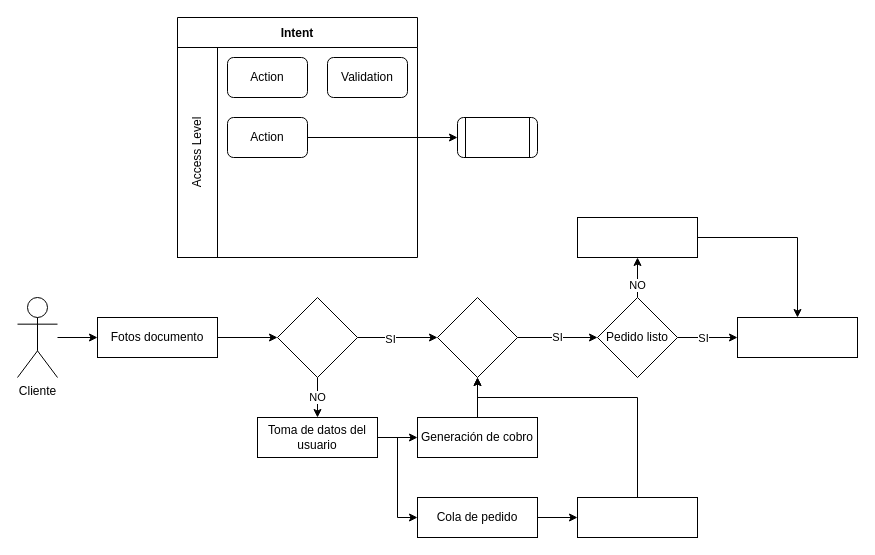
Some shapes in this 875 by 555 pixel diagram are drawn without their labels. The centre of each missing label's shape, as x and y in pixels:
Entrega pedido: [797,337]
Module: [497,137]
Pagado: [477,337]
Procesa la foto: [637,237]
Reclamar: [317,337]
Se le toma la foto: [637,517]
